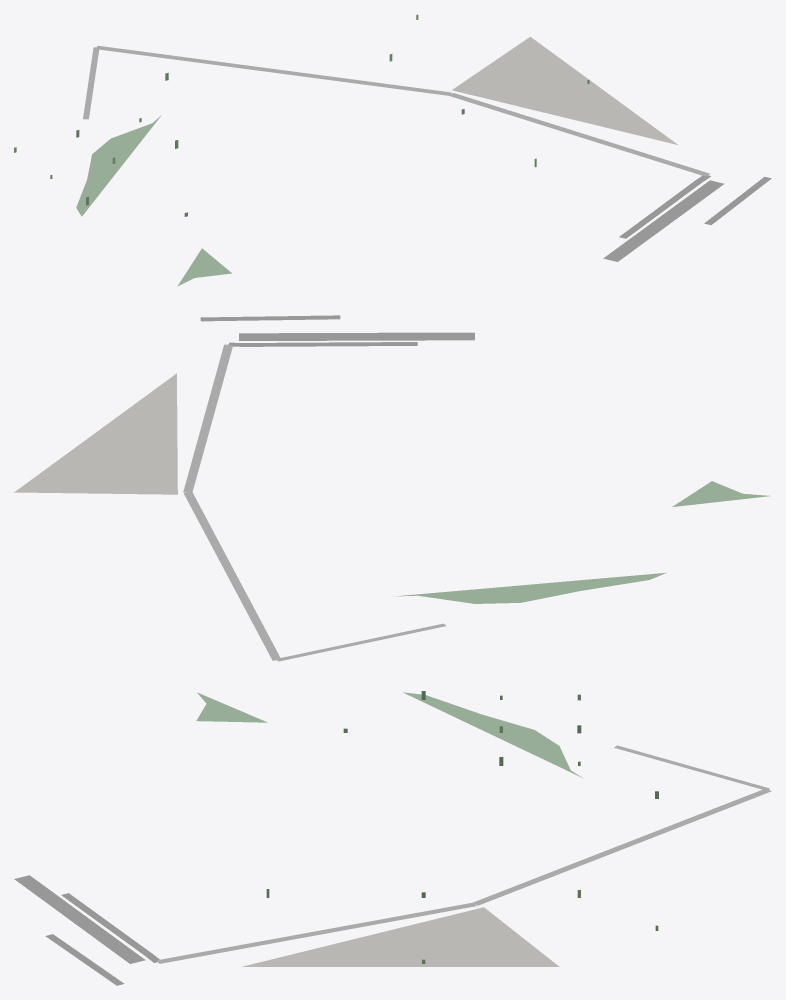
The picture shows the model from 3 angles, top to bottom: view 1: azimuth 30°, elevation 25°; view 2: azimuth 150°, elevation 25°; view 3: azimuth 270°, elevation 25°; orthographic projection. The views are drawn at different scales.
Bounding box in the file's own units: 534 × 8.72 × 584.
